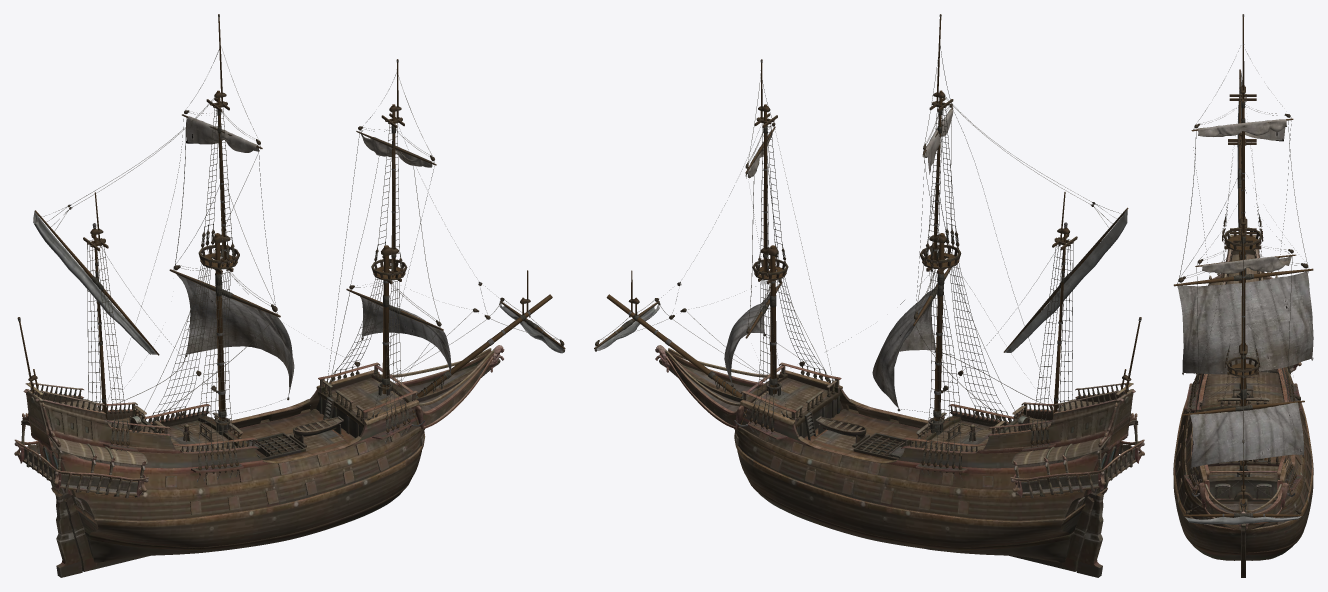
The model's file is ship-mobile.glb.
3 renders of one model, left to right at view 1: azimuth 30°, elevation 25°; view 2: azimuth 150°, elevation 25°; view 3: azimuth 270°, elevation 25°, orthographic. The views are drawn at different scales.
Parts seen in each view (by area): view 1: dutch_ship_large_01_hull, dutch_ship_large_01_rigging, dutch_ship_large_01_sails; view 2: dutch_ship_large_01_hull, dutch_ship_large_01_rigging, dutch_ship_large_01_sails; view 3: dutch_ship_large_01_sails, dutch_ship_large_01_hull, dutch_ship_large_01_rigging.
Boxes of the visible parts, x1=… form: dutch_ship_large_01_hull: x1=14, y1=345, x2=504, y2=577; dutch_ship_large_01_rigging: x1=17, y1=14, x2=565, y2=482; dutch_ship_large_01_sails: x1=176, y1=116, x2=451, y2=396; dutch_ship_large_01_hull: x1=655, y1=345, x2=1144, y2=577; dutch_ship_large_01_rigging: x1=594, y1=14, x2=1141, y2=479; dutch_ship_large_01_sails: x1=724, y1=109, x2=953, y2=408; dutch_ship_large_01_sails: x1=1178, y1=119, x2=1313, y2=467; dutch_ship_large_01_hull: x1=1173, y1=235, x2=1313, y2=577; dutch_ship_large_01_rigging: x1=1173, y1=14, x2=1313, y2=524.
Size of the model in its own units: 34.25 by 32.08 by 8.39.
3 materials, 3 textured.
